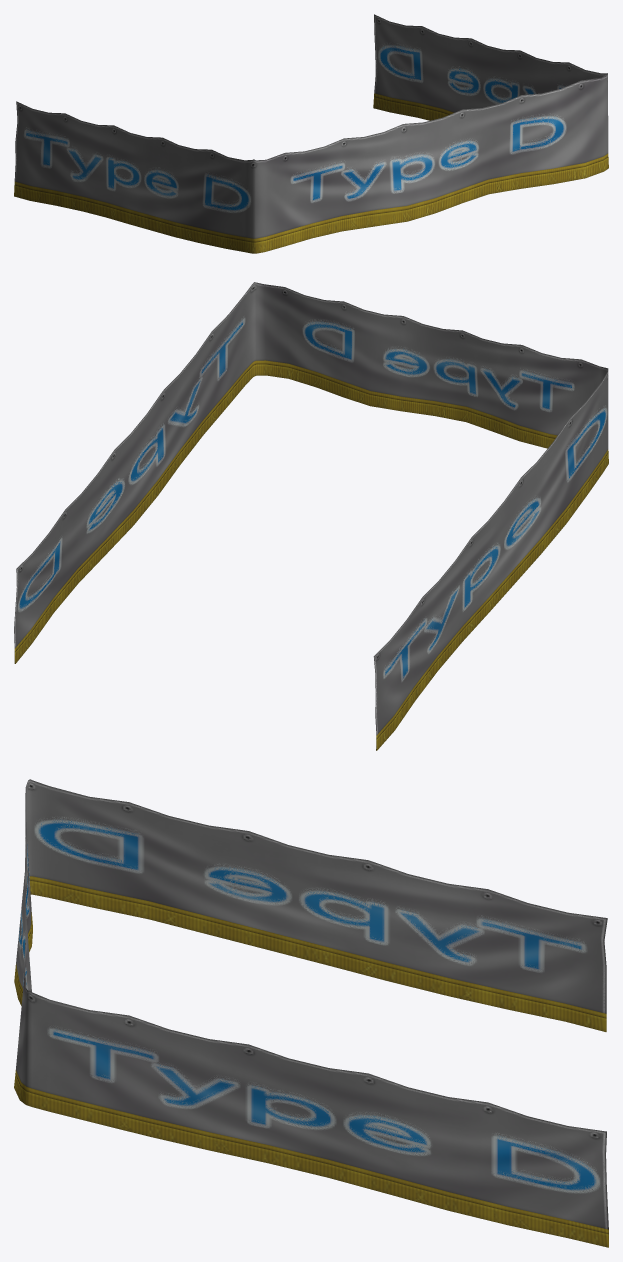
The model's file is jsf_ShopCurtain_d_s01.fbx.
The picture shows the model from 3 angles, top to bottom: view 1: azimuth 30°, elevation 25°; view 2: azimuth 150°, elevation 25°; view 3: azimuth 270°, elevation 25°; orthographic projection. The views are drawn at different scales.
Parts seen in each view (by area): view 1: jsf_ShopCurtain_d_s01; view 2: jsf_ShopCurtain_d_s01; view 3: jsf_ShopCurtain_d_s01.
Boxes of the visible parts, x1,y1,x2,y2 form: jsf_ShopCurtain_d_s01: (14, 14, 608, 253); jsf_ShopCurtain_d_s01: (14, 282, 608, 750); jsf_ShopCurtain_d_s01: (14, 779, 608, 1247).
Size of the model in its own units: 188 by 103 by 216.
